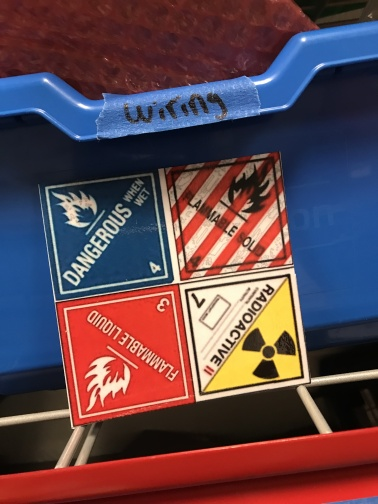DangerousWhenWet: (37, 169, 175, 300)
FlammableLiquid: (55, 285, 196, 426)
FlammableSolid: (165, 152, 294, 281)
Radioactive: (178, 267, 311, 403)
